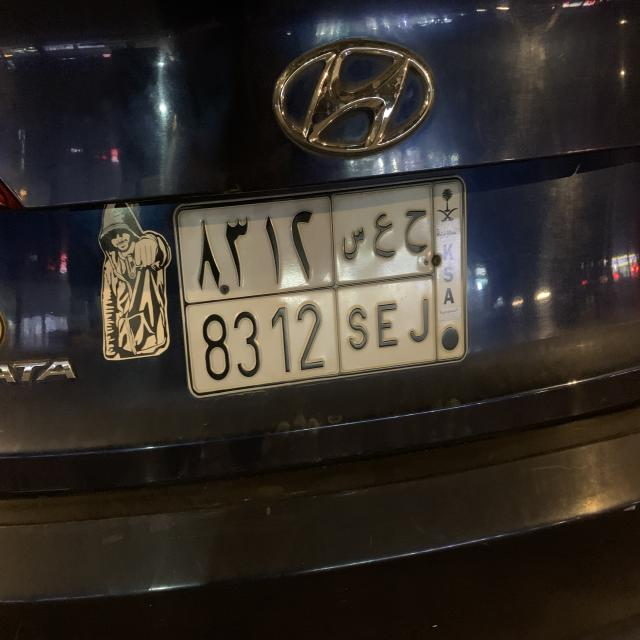license_plate: (171, 172, 471, 402)
